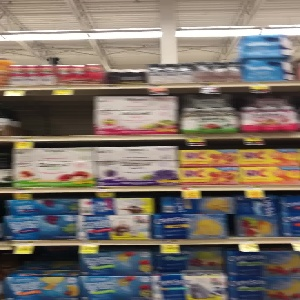void: (16, 86, 91, 142)
